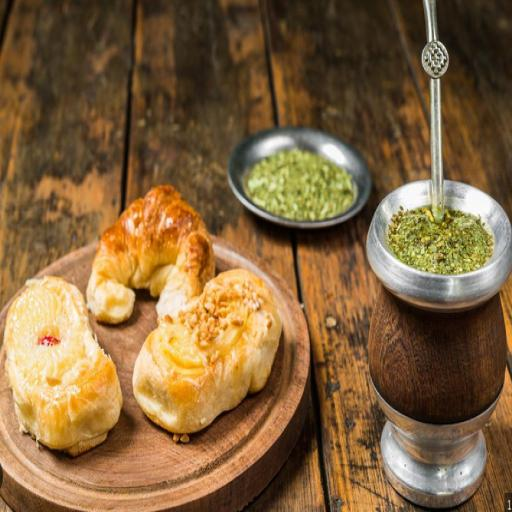bolleria: (134, 269, 281, 440), (4, 276, 122, 456), (87, 185, 215, 323)
mate: (367, 0, 511, 507)
